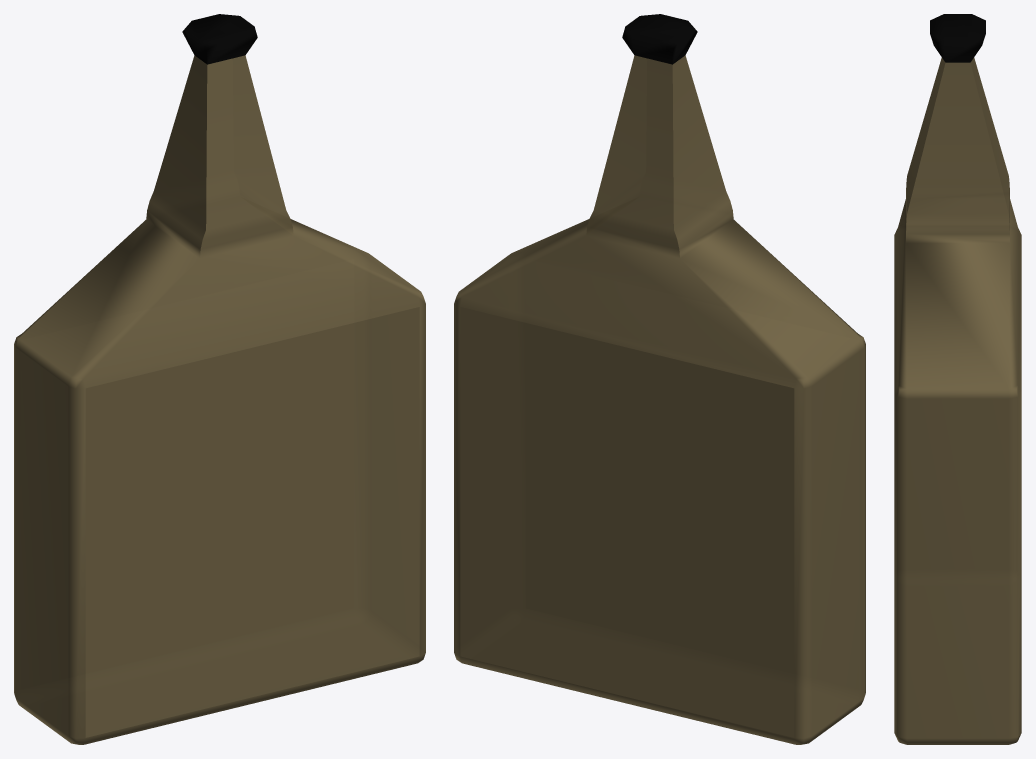
Rendered from liquor.fbx.
The picture shows the model from 3 angles, left to right: view 1: azimuth 30°, elevation 25°; view 2: azimuth 150°, elevation 25°; view 3: azimuth 270°, elevation 25°; orthographic projection. The views are drawn at different scales.
Visible parts, largest first — view 1: pCube1; view 2: pCube1; view 3: pCube1.
Boxes of the visible parts, left/top/right/bottom form: pCube1: left=14, top=14, right=425, bottom=744; pCube1: left=454, top=14, right=865, bottom=744; pCube1: left=894, top=14, right=1021, bottom=744.
Bounding box in the file's own units: 1 × 1.76 × 0.3181.
